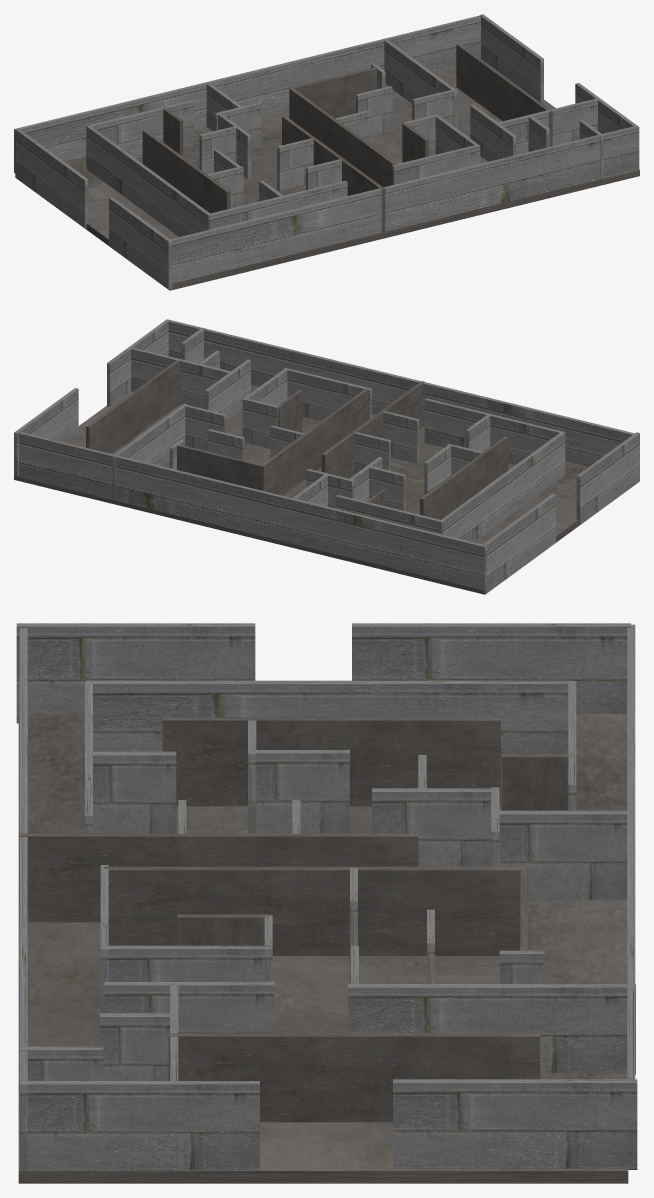
File: laberinto2.fbx
The picture shows the model from 3 angles, top to bottom: view 1: azimuth 30°, elevation 25°; view 2: azimuth 150°, elevation 25°; view 3: azimuth 270°, elevation 25°; orthographic projection. The views are drawn at different scales.
Visible parts, largest first — view 1: polySurface31, polySurface32, polySurface38, polySurface9, polySurface8, polySurface6, polySurface55, polySurface39, polySurface46, polySurface13, polySurface7, polySurface15 (+23 smaller); view 2: polySurface32, polySurface31, polySurface38, polySurface9, polySurface6, polySurface55, polySurface17, polySurface8, polySurface39, polySurface46, polySurface25, polySurface49 (+23 smaller); view 3: polySurface38, polySurface6, polySurface55, polySurface9, polySurface13, polySurface46, polySurface30, polySurface8, polySurface49, polySurface15, polySurface39, polySurface1 (+17 smaller).
Part boxes in pixels (x1,y1,x2,y2): polySurface31: (170, 126, 639, 283); polySurface32: (14, 15, 480, 173); polySurface38: (64, 66, 639, 290); polySurface9: (87, 125, 211, 236); polySurface8: (15, 128, 88, 228); polySurface6: (289, 87, 397, 187); polySurface55: (456, 43, 552, 146); polySurface39: (109, 197, 172, 289); polySurface46: (142, 129, 230, 213); polySurface13: (479, 14, 543, 102); polySurface7: (86, 100, 194, 168); polySurface15: (382, 38, 457, 128); polySurface32: (19, 432, 486, 590); polySurface31: (168, 320, 634, 466); polySurface38: (14, 384, 588, 594); polySurface9: (441, 431, 565, 542); polySurface6: (260, 388, 368, 495); polySurface55: (86, 358, 182, 453); polySurface17: (424, 398, 563, 464); polySurface8: (482, 493, 555, 593); polySurface39: (576, 432, 639, 524); polySurface46: (420, 436, 508, 519); polySurface25: (128, 347, 230, 408); polySurface49: (321, 381, 424, 478); polySurface38: (18, 714, 628, 1183); polySurface6: (104, 866, 526, 955); polySurface55: (168, 1033, 540, 1122); polySurface9: (86, 680, 572, 769); polySurface13: (393, 1079, 637, 1169); polySurface46: (162, 717, 500, 806); polySurface30: (20, 1081, 259, 1170); polySurface8: (352, 623, 630, 713); polySurface49: (19, 833, 418, 922); polySurface15: (348, 984, 635, 1074); polySurface39: (16, 623, 255, 723); polySurface1: (491, 810, 629, 899).
Size of the model in its own units: 880 by 88.92 by 501.
